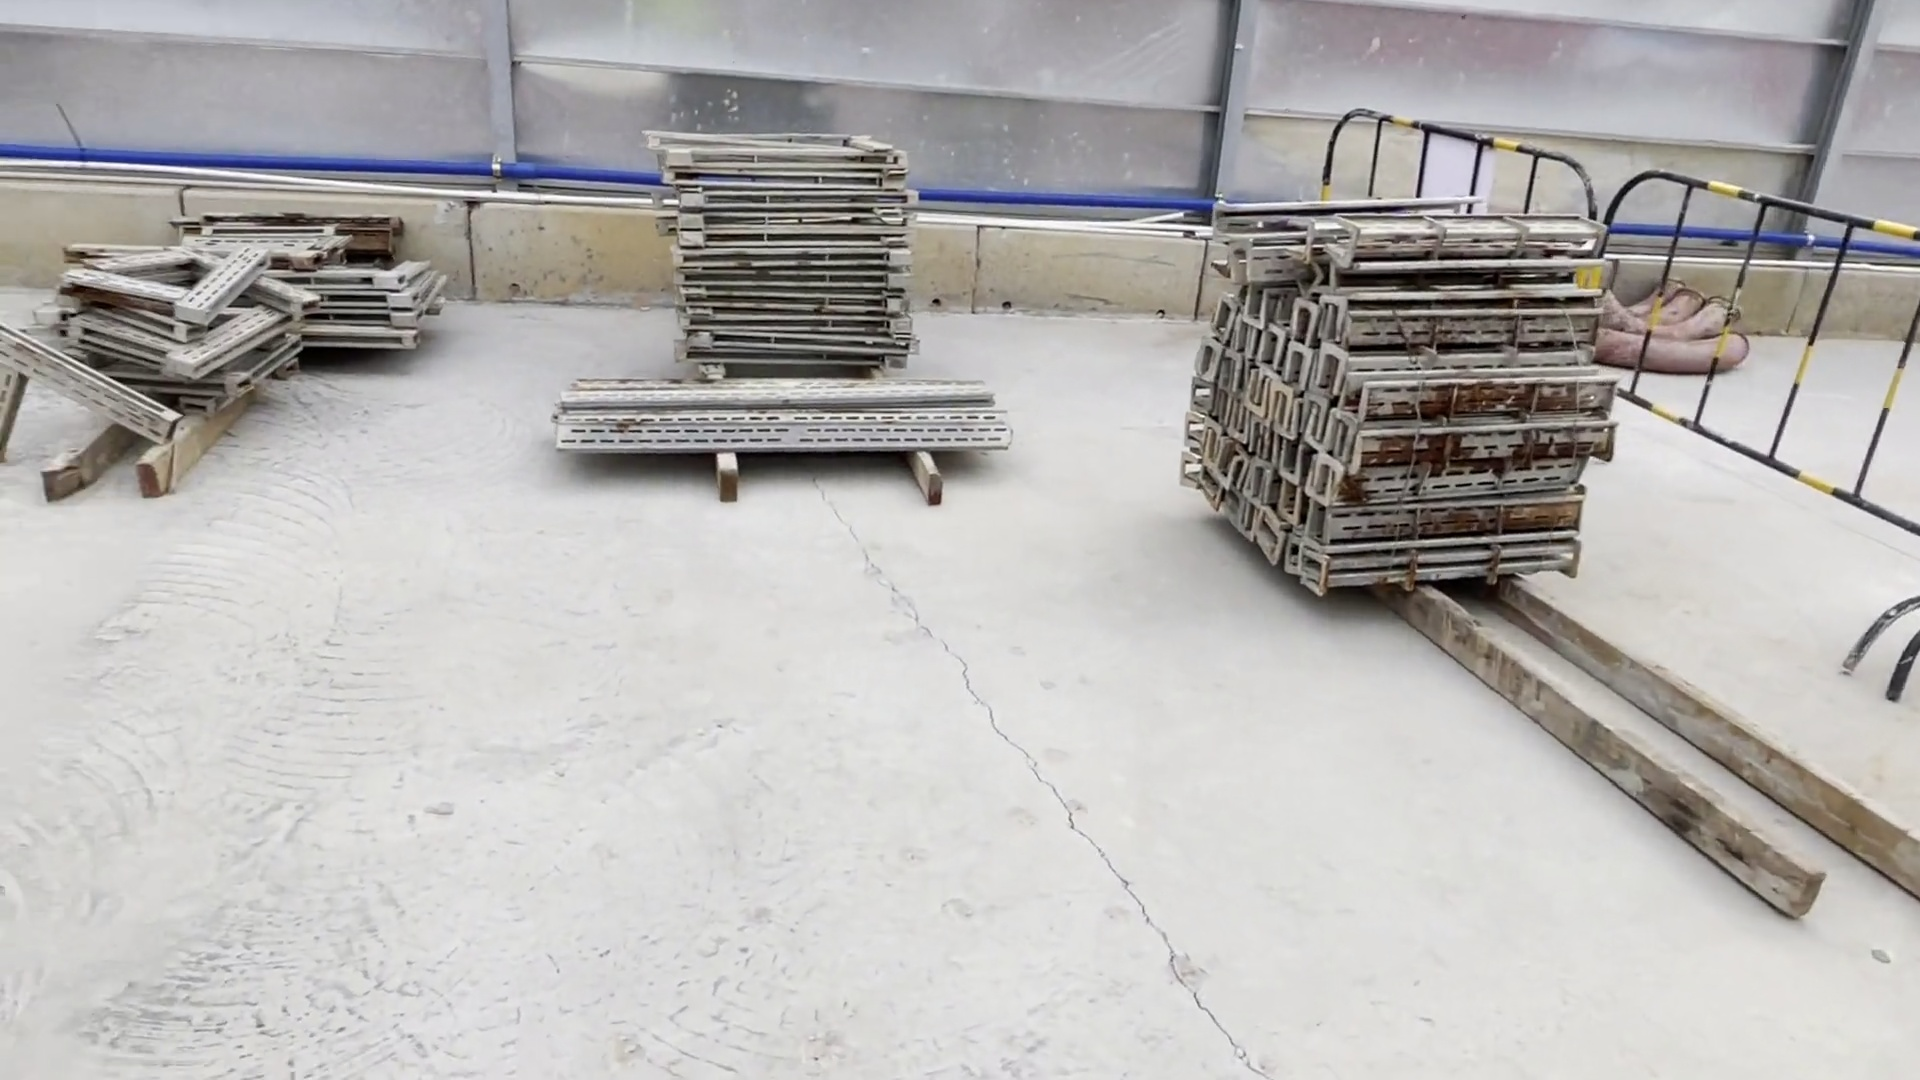fence: (1613, 150, 1920, 698)
